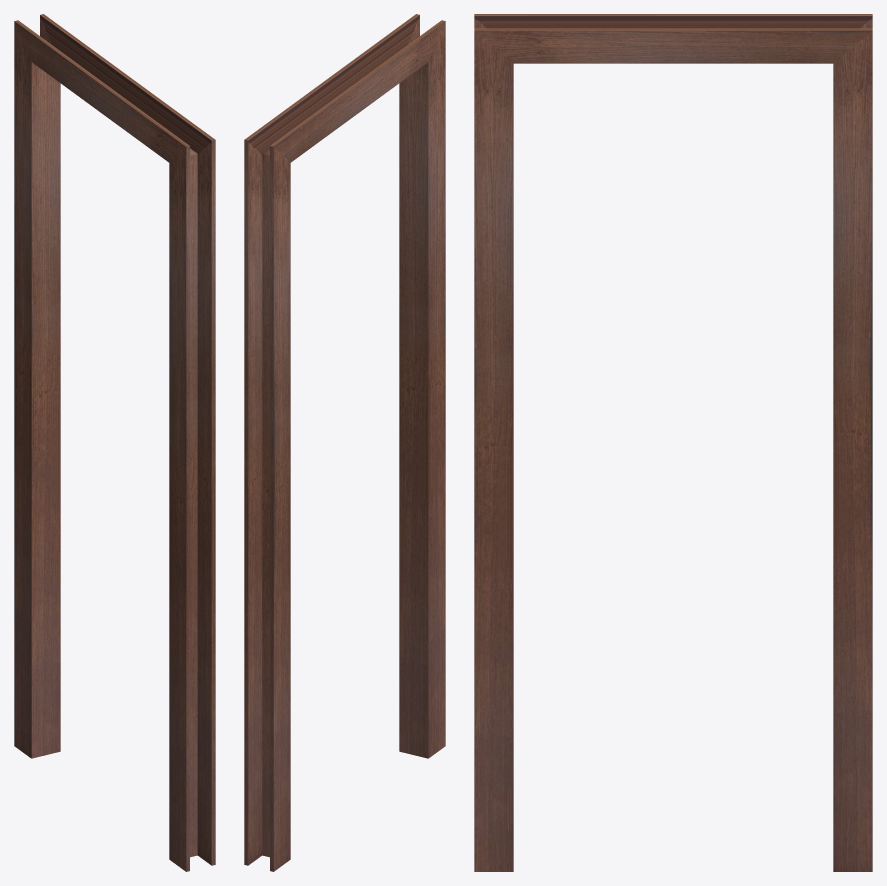
The model's file is 48_ROYAL_Frame.glb.
3 views of the same model, side by side, from view 1: azimuth 30°, elevation 25°; view 2: azimuth 150°, elevation 25°; view 3: azimuth 270°, elevation 25° (orthographic). The views are drawn at different scales.
Visible parts, largest first — view 1: 48_ROYAL_Frame; view 2: 48_ROYAL_Frame; view 3: 48_ROYAL_Frame.
Boxes of the visible parts, x1,y1,x2,y2 form: 48_ROYAL_Frame: [14, 14, 215, 871]; 48_ROYAL_Frame: [244, 14, 445, 871]; 48_ROYAL_Frame: [474, 14, 872, 871].
Size of the model in its own units: 0.0974 by 2.31 by 0.9904.
Materials: 1 (1 with a texture image).
